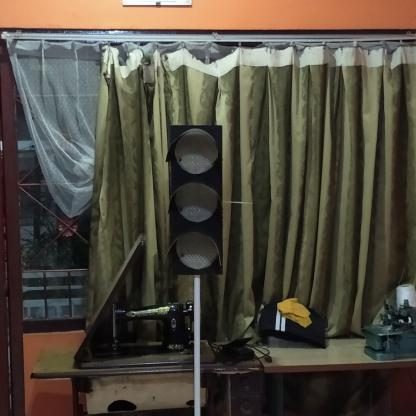green: (168, 124, 224, 272)
